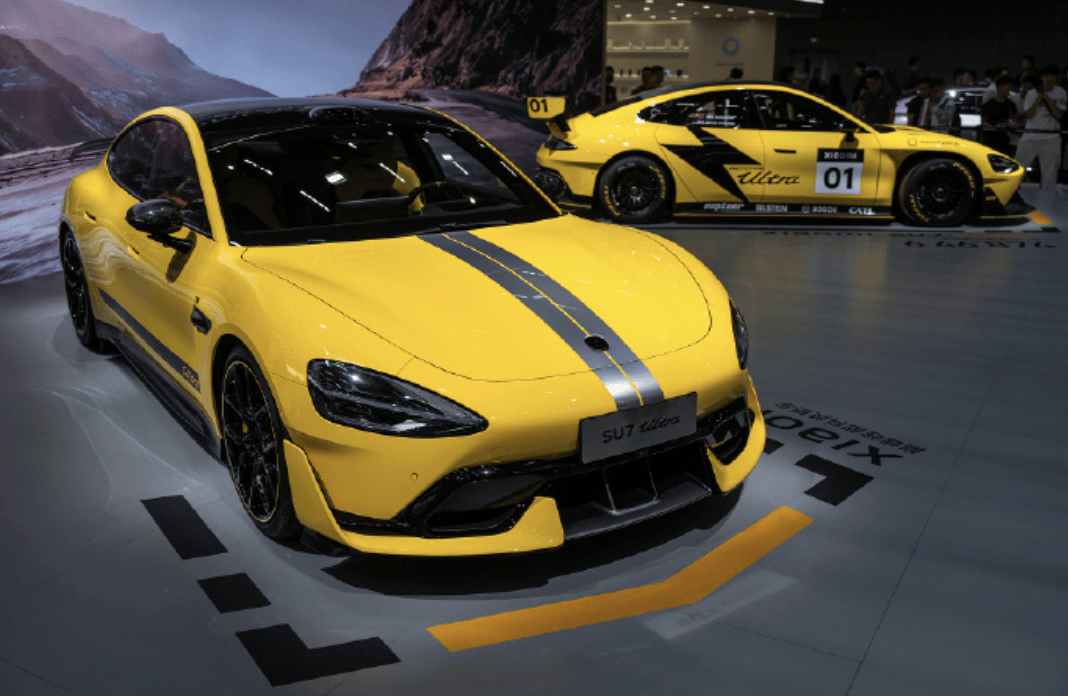su7: (51, 84, 765, 571), (533, 71, 1029, 223)
